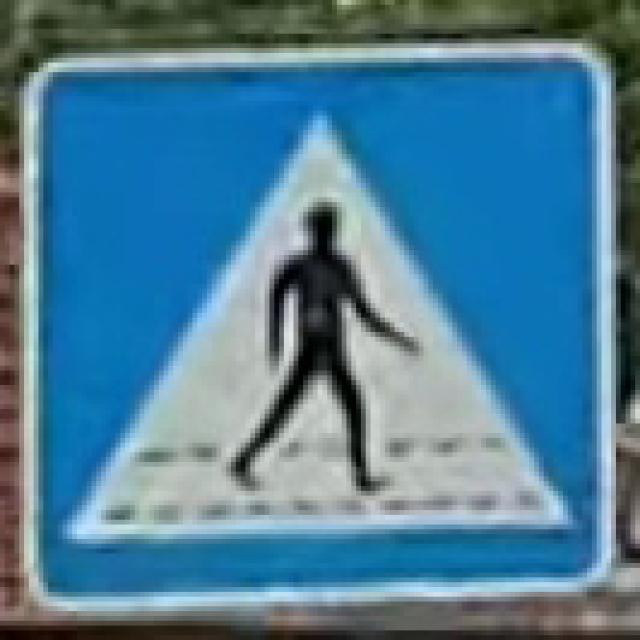zebracrossing_sign: (9, 35, 620, 612)
